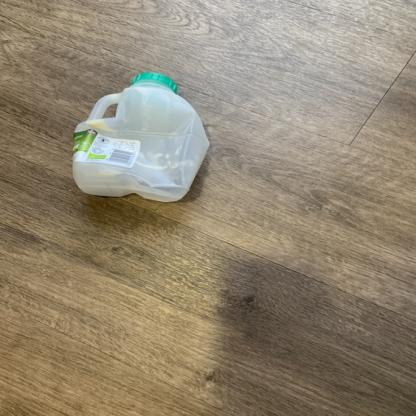trash: (70, 70, 214, 203)
